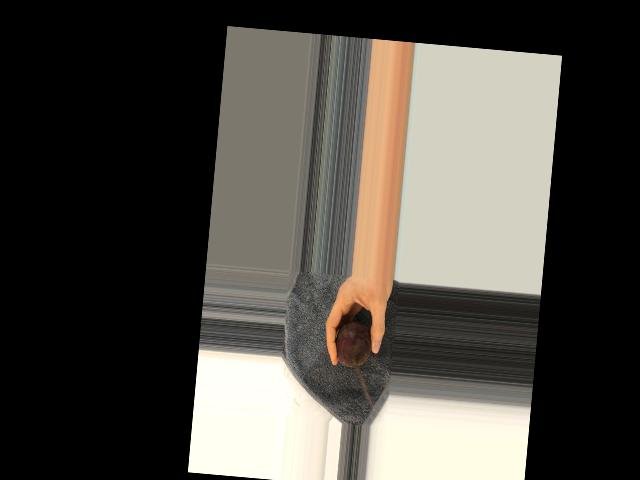beet: (334, 320, 373, 368)
